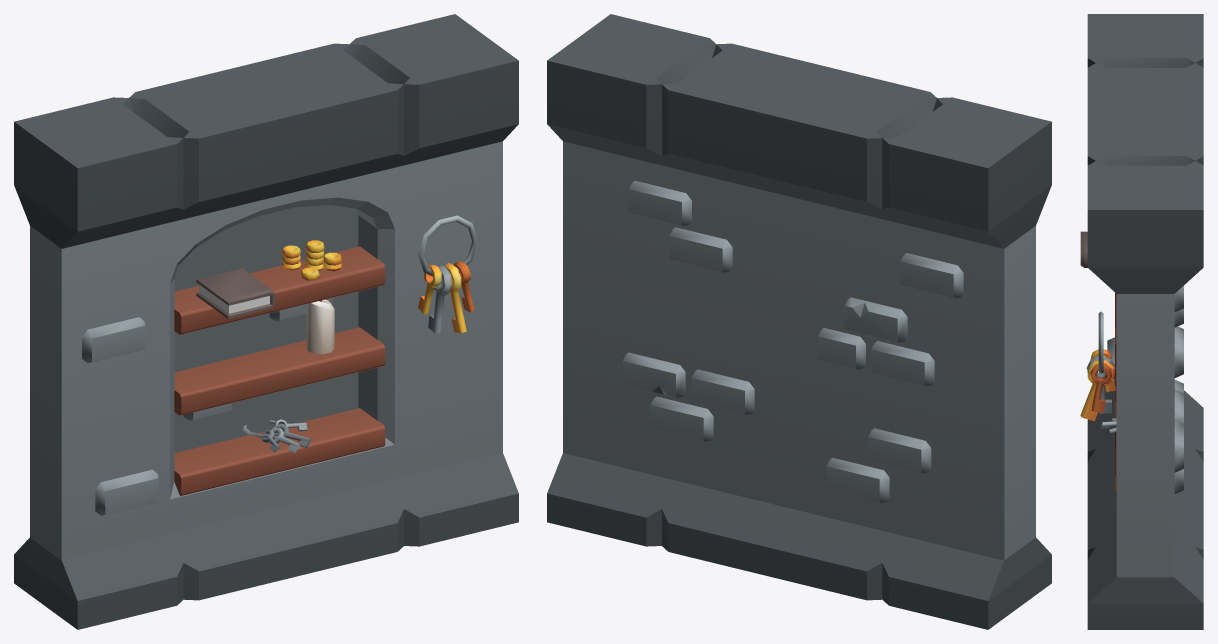
Rendered from wall_alcove_B.glb.
The picture shows the model from 3 angles, left to right: view 1: azimuth 30°, elevation 25°; view 2: azimuth 150°, elevation 25°; view 3: azimuth 270°, elevation 25°; orthographic projection. The views are drawn at different scales.
Visible parts, largest first — view 1: Item; view 2: Item; view 3: Item.
Boxes of the visible parts, box(x1,y1,x2,y2) form: Item: box(14, 14, 518, 629); Item: box(547, 14, 1051, 629); Item: box(1080, 14, 1203, 629).
Size of the model in its own units: 4 by 4 by 1.06.
Materials: 2 (2 with a texture image).
